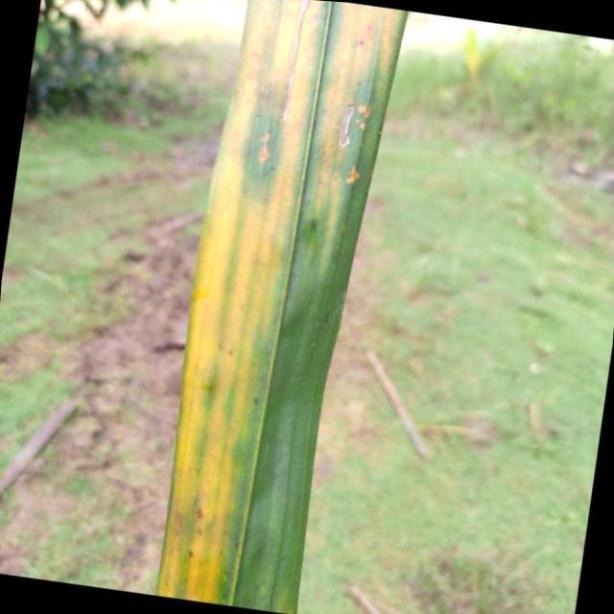Megnesium: (155, 0, 408, 614)
